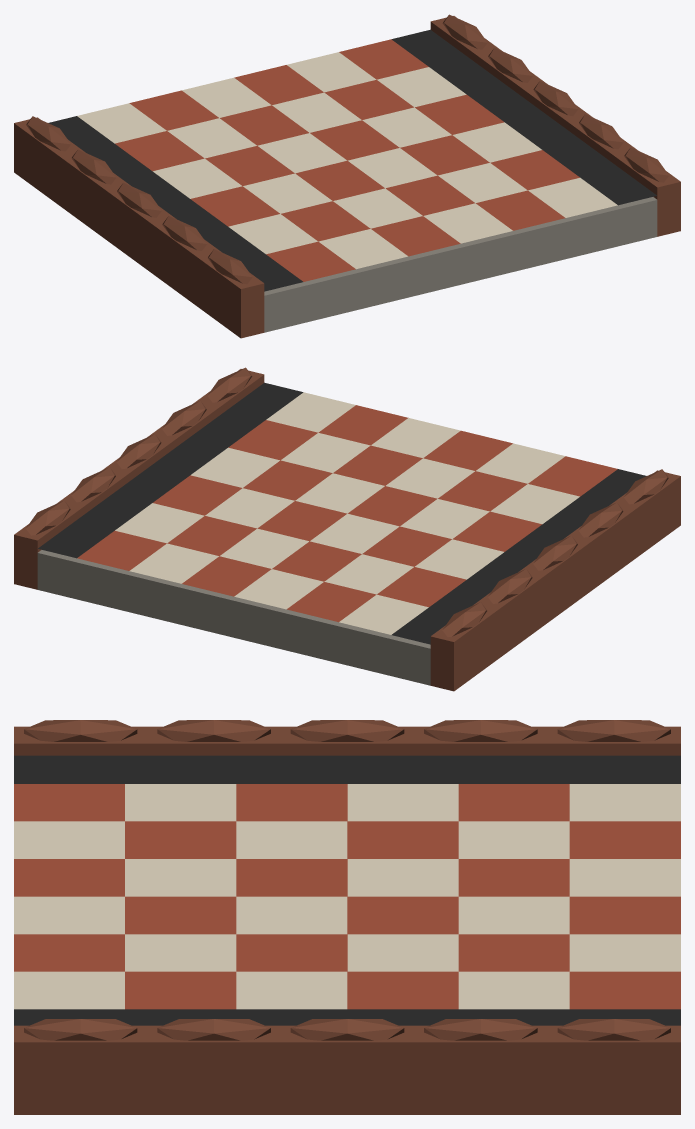
Rendered from path-tiled.glb.
3 renders of one model, top to bottom at view 1: azimuth 30°, elevation 25°; view 2: azimuth 150°, elevation 25°; view 3: azimuth 270°, elevation 25°, orthographic. The views are drawn at different scales.
Visible parts, largest first — view 1: path-tiled; view 2: path-tiled; view 3: path-tiled.
Part boxes in pixels (x1,y1,x2,y2): path-tiled: (14,14,680,338); path-tiled: (14,367,680,691); path-tiled: (14,720,680,1114).
Bounding box in the file's own units: 1.12 × 0.145 × 1.
